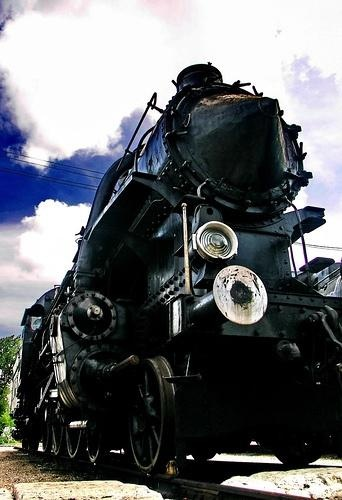train: (14, 61, 342, 471)
